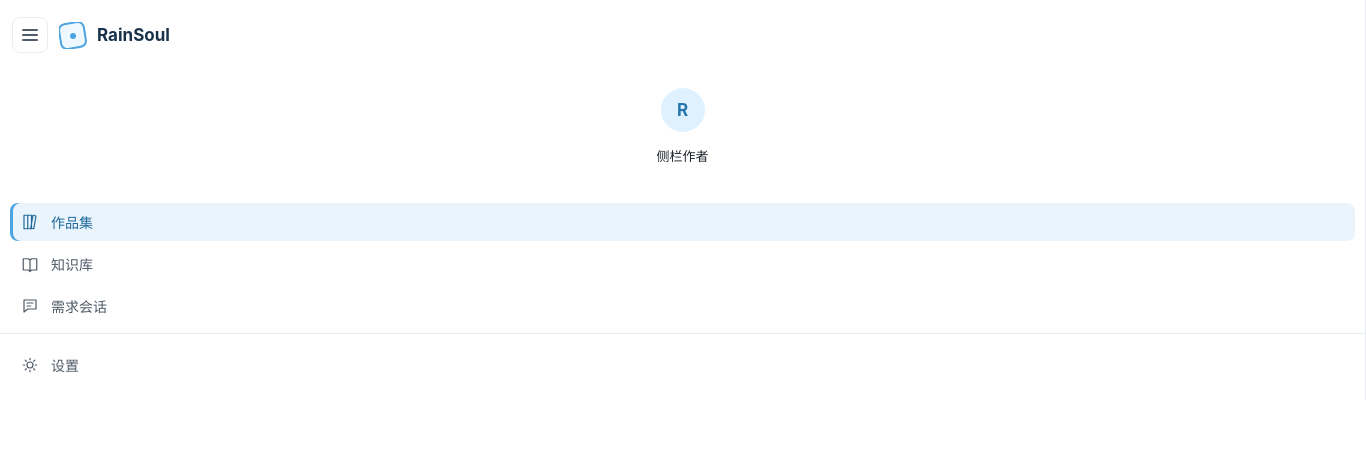
Test case: 个人资料交互 › 侧栏直接显示名称且允许原位修改，不显示笔名标签
The width and height of the screenshot is (1366, 466).
Click the button with aria-label "编辑显示名称：侧栏作者": click(682, 155) x1=648 y1=141 x2=716 y2=169
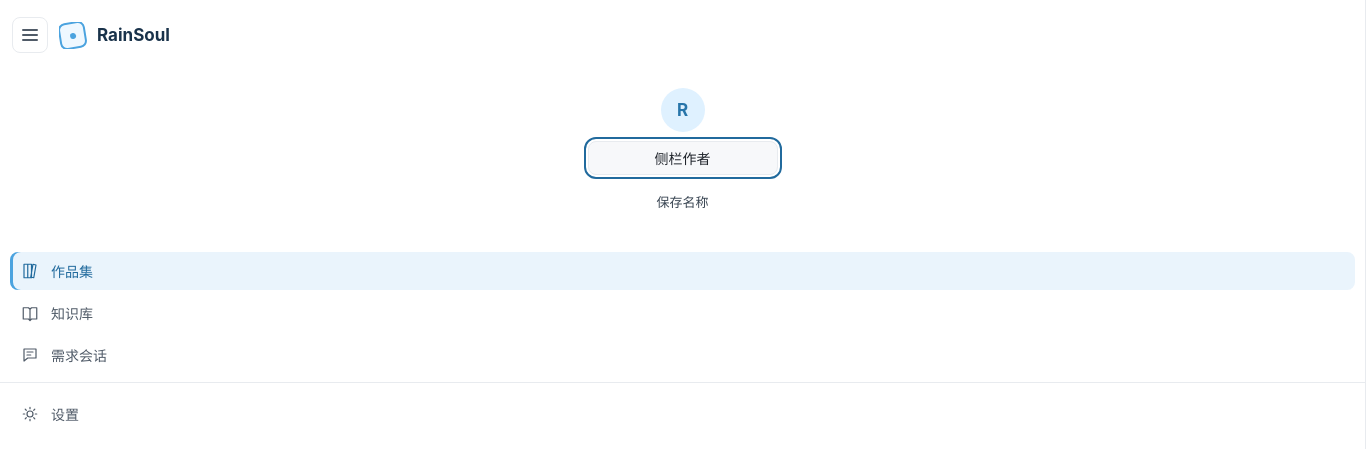
Replace the text in the field named "修改显示名称" with "改名作者": (682, 158) x1=588 y1=141 x2=778 y2=175
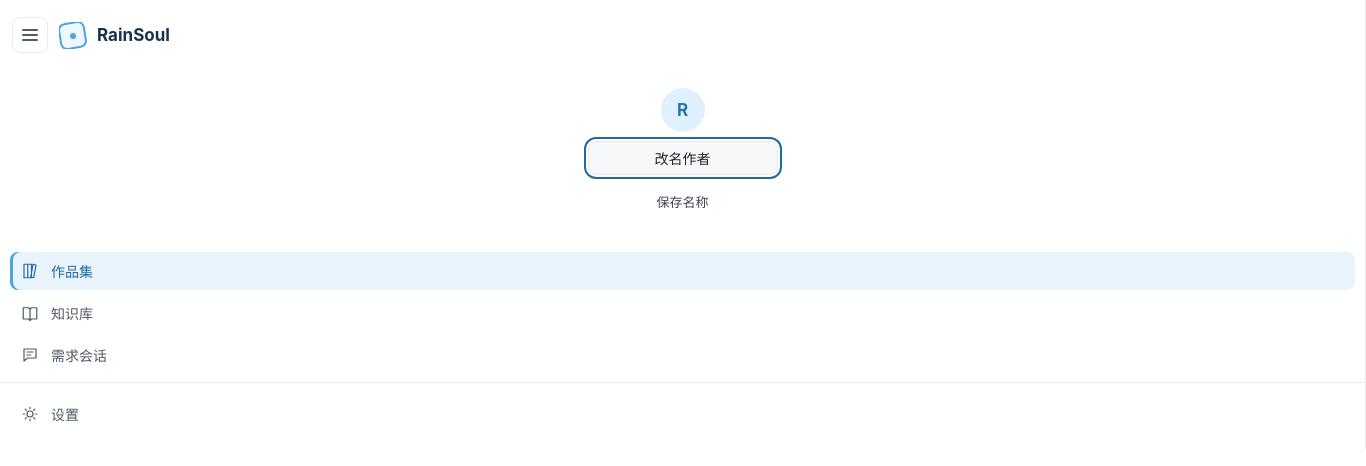
Press Enter in the field named "修改显示名称", box x1=588 y1=141 x2=778 y2=175
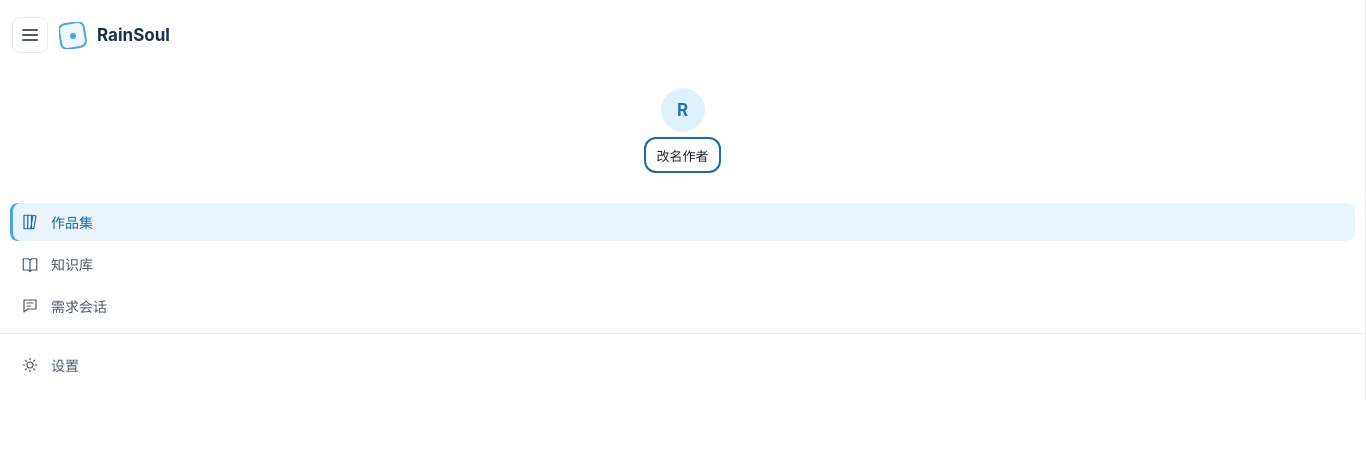
Check: the button with aria-label "编辑显示名称：改名作者" is shown, box x1=648 y1=141 x2=716 y2=169
